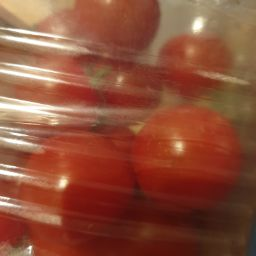Pea tomatoes: (13, 3, 256, 254), (122, 108, 251, 231), (13, 125, 139, 238), (159, 38, 243, 107), (72, 3, 172, 55), (97, 56, 172, 124), (29, 61, 102, 126)
